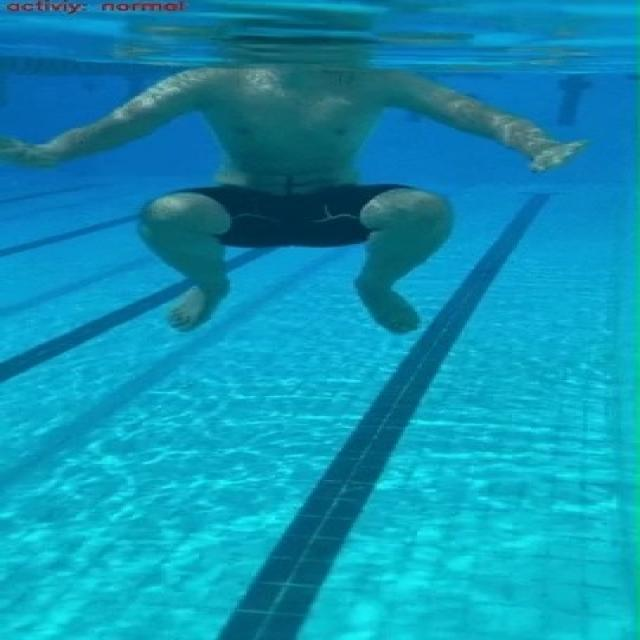Drowning: (0, 67, 640, 335)
